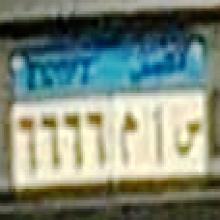6: (87, 107, 111, 166), (18, 113, 38, 173), (43, 108, 62, 171), (64, 109, 83, 168)
alif: (148, 102, 166, 162)
meem: (116, 112, 143, 163)
seen: (173, 114, 204, 158)
